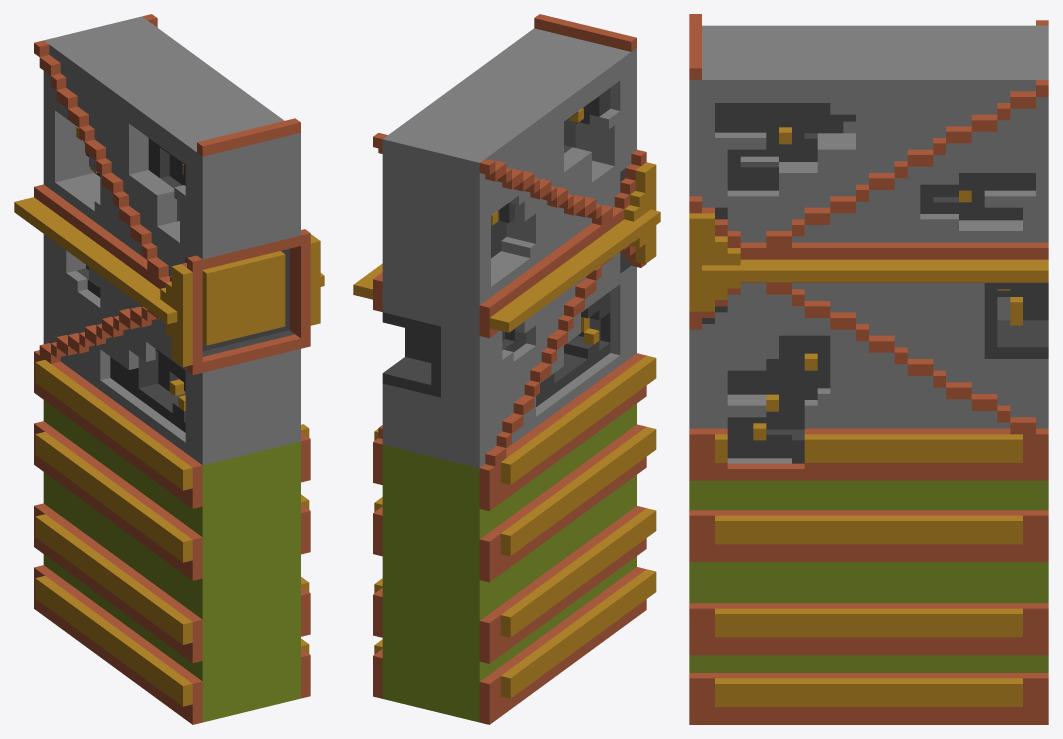
File: door-1.obj
3 renders of one model, left to right at view 1: azimuth 30°, elevation 25°; view 2: azimuth 150°, elevation 25°; view 3: azimuth 270°, elevation 25°, orthographic. The views are drawn at different scales.
Bounding box in the file's own units: 1.6 × 5.6 × 2.8.
1 material, 1 textured.
